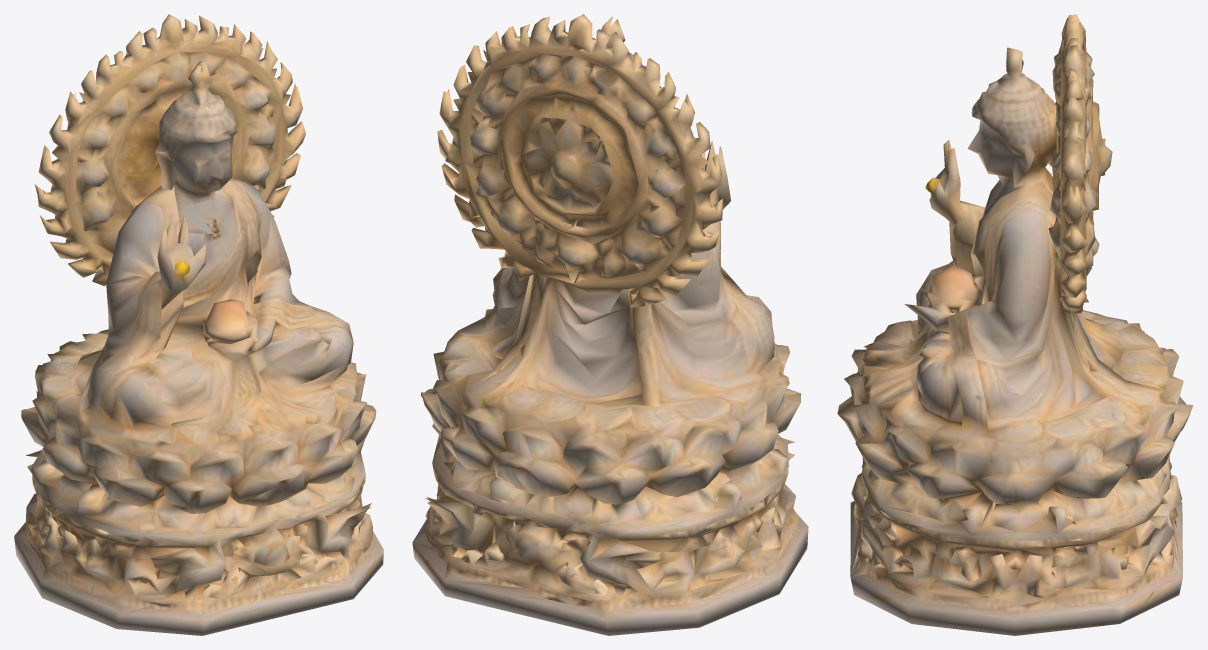
File: far.glb
The picture shows the model from 3 angles, left to right: view 1: azimuth 30°, elevation 25°; view 2: azimuth 150°, elevation 25°; view 3: azimuth 270°, elevation 25°; orthographic projection. The views are drawn at different scales.
Parts seen in each view (by area): view 1: four-heavenly-kings-04; view 2: four-heavenly-kings-04; view 3: four-heavenly-kings-04.
Boxes of the visible parts, x1=… form: four-heavenly-kings-04: x1=14, y1=14, x2=383, y2=635; four-heavenly-kings-04: x1=412, y1=14, x2=808, y2=635; four-heavenly-kings-04: x1=837, y1=14, x2=1193, y2=635.
Bounding box in the file's own units: 0.6287 × 0.9946 × 0.5984.
Materials: 1 (1 with a texture image).
